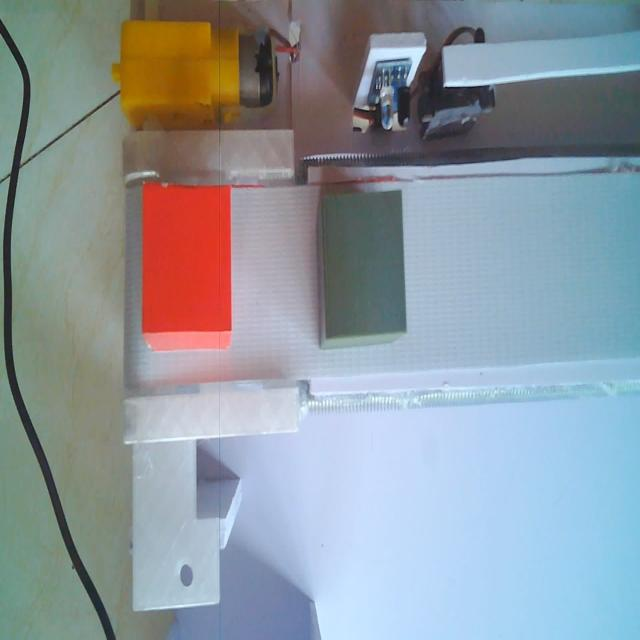green: (316, 190, 412, 348)
red: (139, 176, 234, 356)
